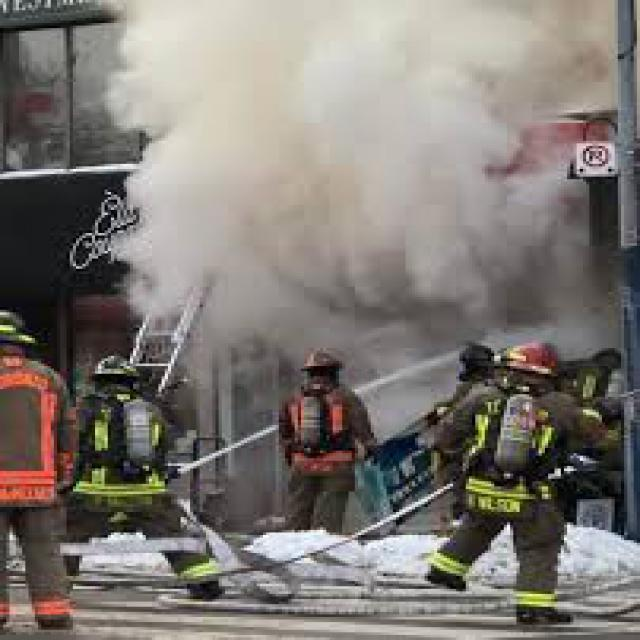Smoke: (108, 28, 628, 322)
